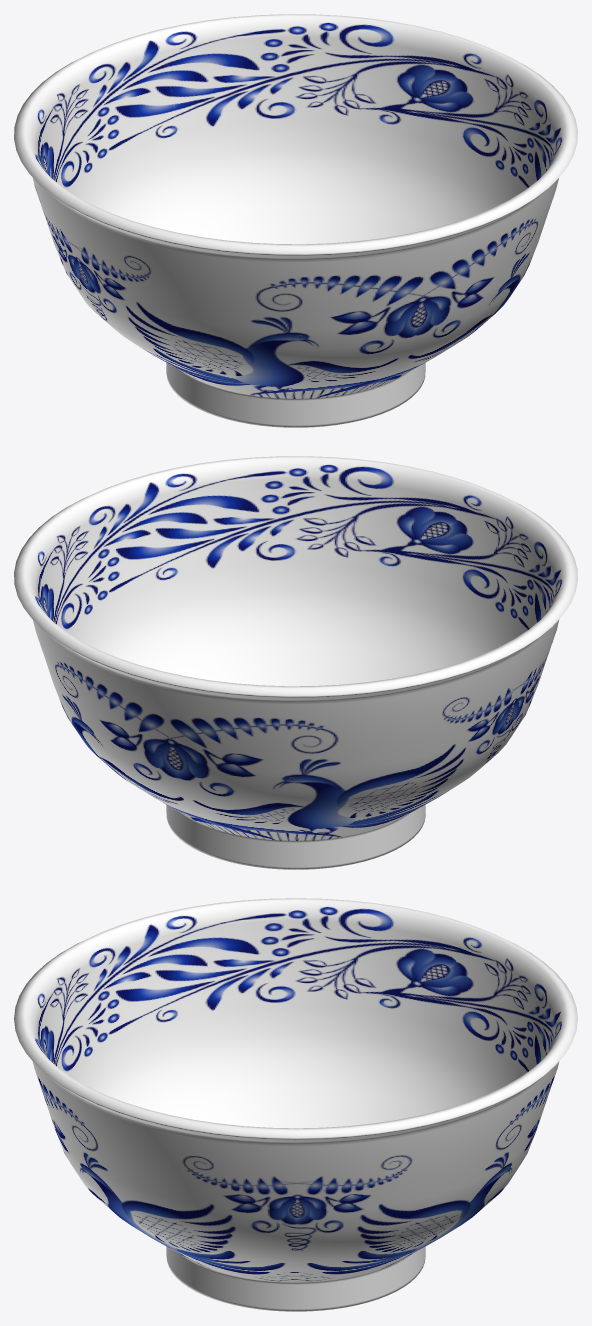
The model's file is porselen-kase.glb.
3 renders of one model, top to bottom at view 1: azimuth 30°, elevation 25°; view 2: azimuth 150°, elevation 25°; view 3: azimuth 270°, elevation 25°, orthographic.
Parts seen in each view (by area): view 1: Blue_and_white_porcelain_bowl; view 2: Blue_and_white_porcelain_bowl; view 3: Blue_and_white_porcelain_bowl.
Part boxes in pixels (left/top/right/bottom): Blue_and_white_porcelain_bowl: left=14, top=14, right=577, bottom=427; Blue_and_white_porcelain_bowl: left=14, top=456, right=577, bottom=869; Blue_and_white_porcelain_bowl: left=14, top=898, right=577, bottom=1311.
Bounding box in the file's own units: 0.1832 × 0.0869 × 0.1832.
Materials: 1 (1 with a texture image).
